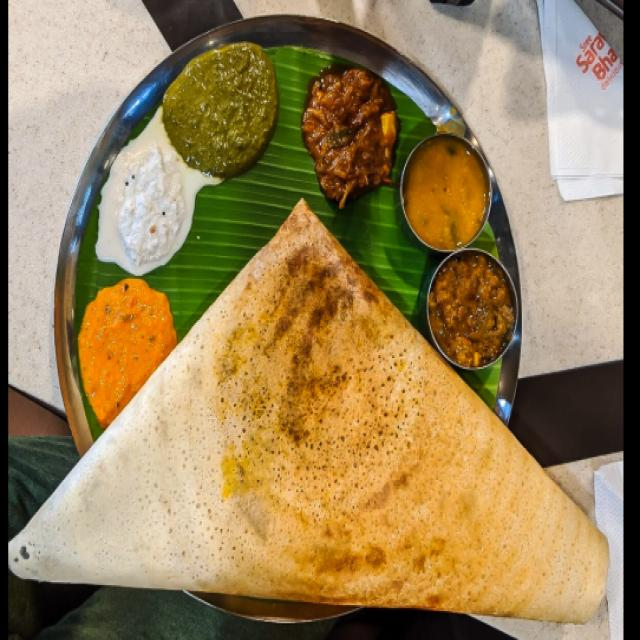dosa: (27, 206, 595, 588)
